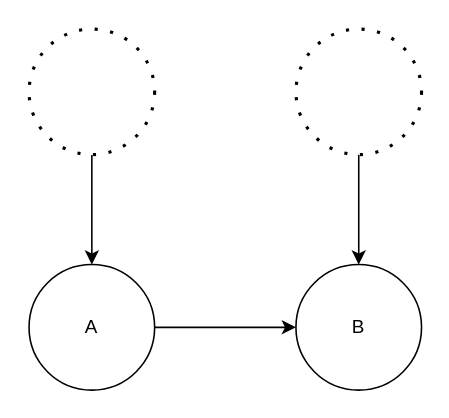
Some shapes in this 449 by 418 pixel diagram are drawn without their labels. Here are the shapes that lost their labels. From the top down, the centre of each, then its label:
(91,91): U 0
(358,91): U 1
